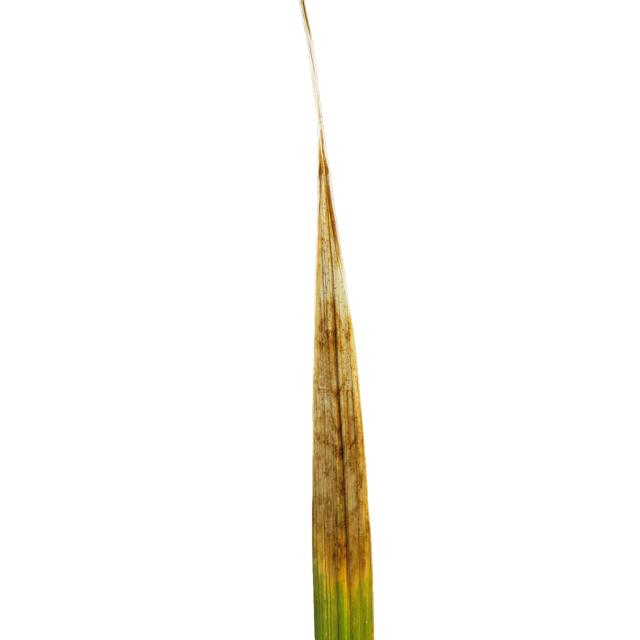Leaf scald: (233, 21, 453, 639)
